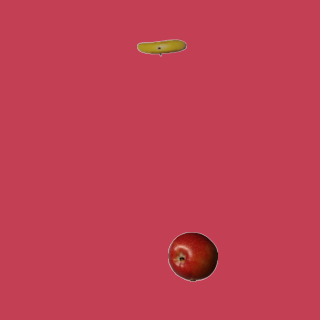Apple Braeburn: (167, 231, 217, 281)
Banana: (136, 22, 186, 72)
